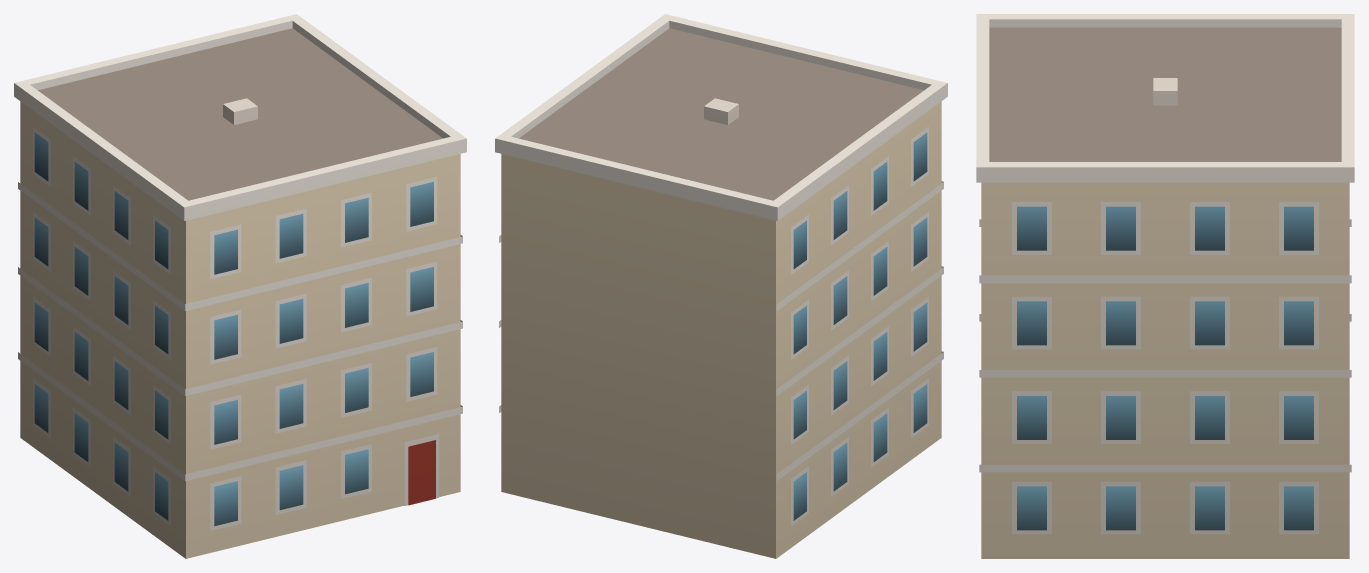
The model's file is beacon_wbb0_far.glb.
3 views of the same model, side by side, from view 1: azimuth 30°, elevation 25°; view 2: azimuth 150°, elevation 25°; view 3: azimuth 270°, elevation 25° (orthographic). The views are drawn at different scales.
Visible parts, largest first — view 1: beacon_wbb0_far; view 2: beacon_wbb0_far; view 3: beacon_wbb0_far.
Part boxes in pixels (x1,y1,x2,y2): beacon_wbb0_far: (14, 14, 466, 558); beacon_wbb0_far: (495, 14, 947, 558); beacon_wbb0_far: (976, 14, 1354, 558).
Bounding box in the file's own units: 11.82 × 14.37 × 12.32.
Materials: 1 (1 with a texture image).
